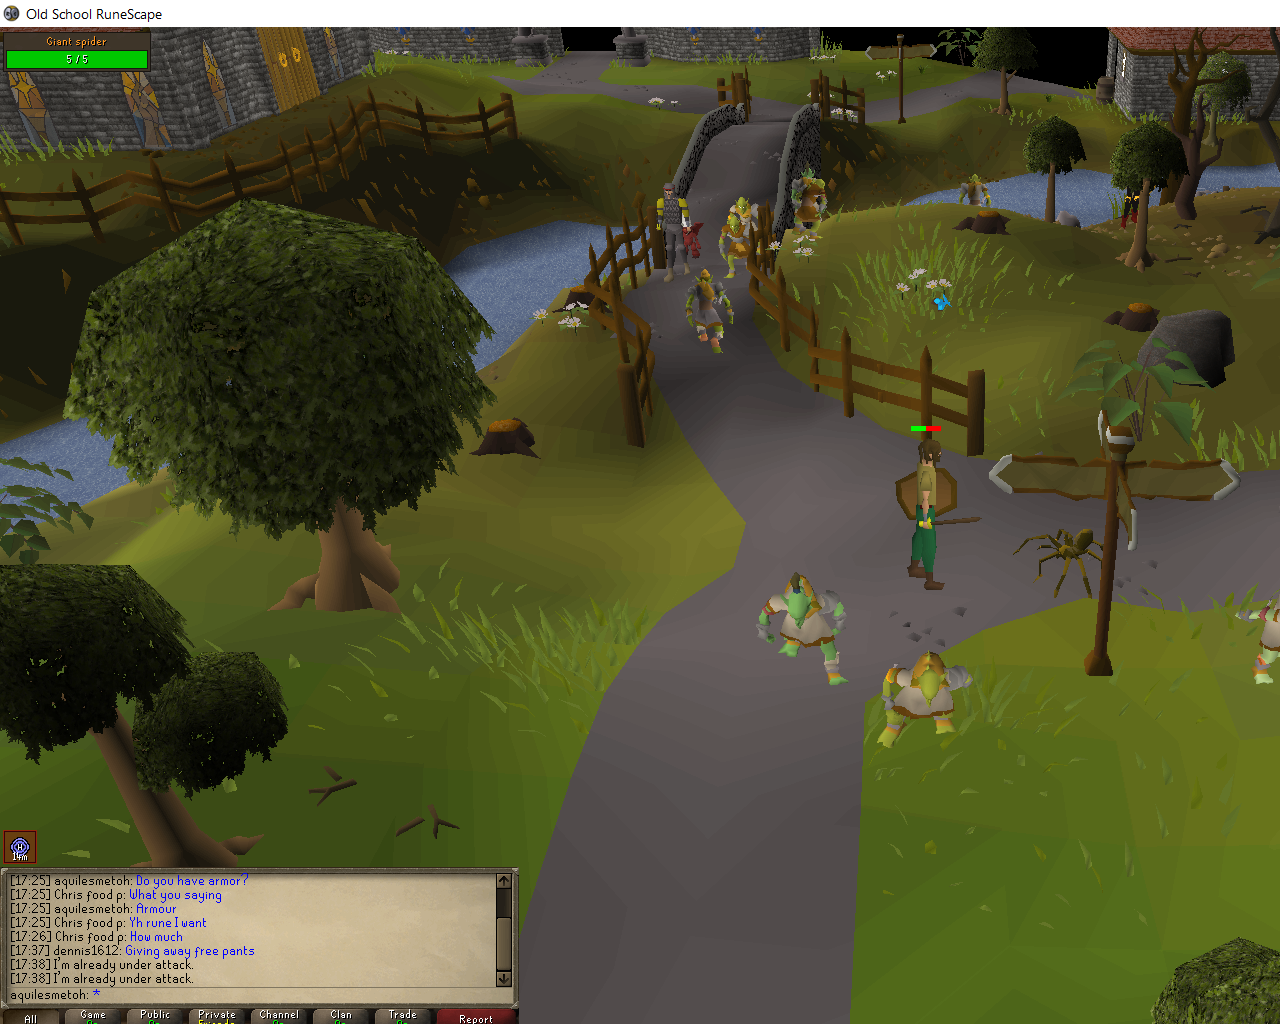Goblin: (752, 573, 857, 689), (874, 647, 976, 751), (679, 269, 741, 355), (1236, 598, 1280, 688), (717, 216, 757, 282), (791, 166, 824, 236), (726, 195, 767, 250), (795, 179, 829, 242), (958, 172, 993, 208)
